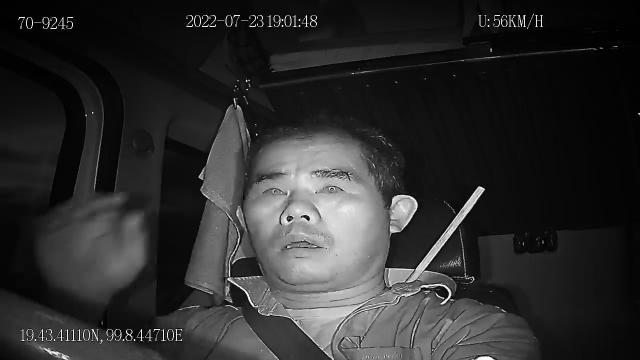SafeDriving: (308, 170, 352, 200), (256, 176, 294, 204)
Seatbelt: (241, 305, 335, 360)
